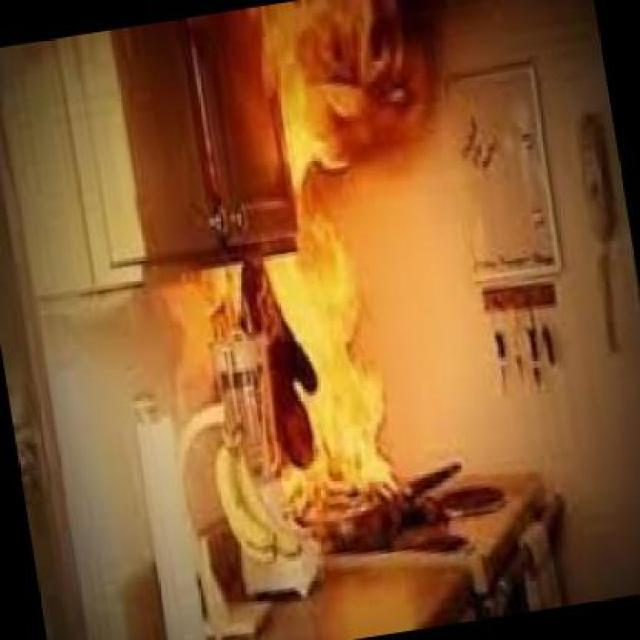Fire: (241, 6, 462, 514)
